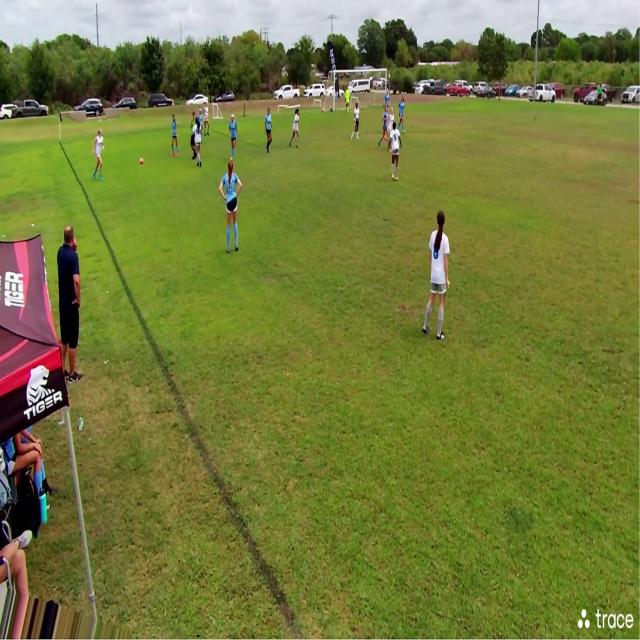ball: (139, 157, 144, 166)
team1: (222, 160, 242, 255), (380, 106, 390, 148), (230, 116, 239, 160), (266, 109, 274, 155), (171, 114, 179, 156), (399, 98, 407, 134), (385, 88, 391, 106), (198, 109, 204, 120)
team2: (424, 211, 453, 347), (390, 122, 404, 179), (94, 130, 105, 181), (194, 119, 205, 168), (289, 110, 300, 150), (352, 102, 360, 144), (203, 103, 210, 137), (390, 108, 396, 124)
